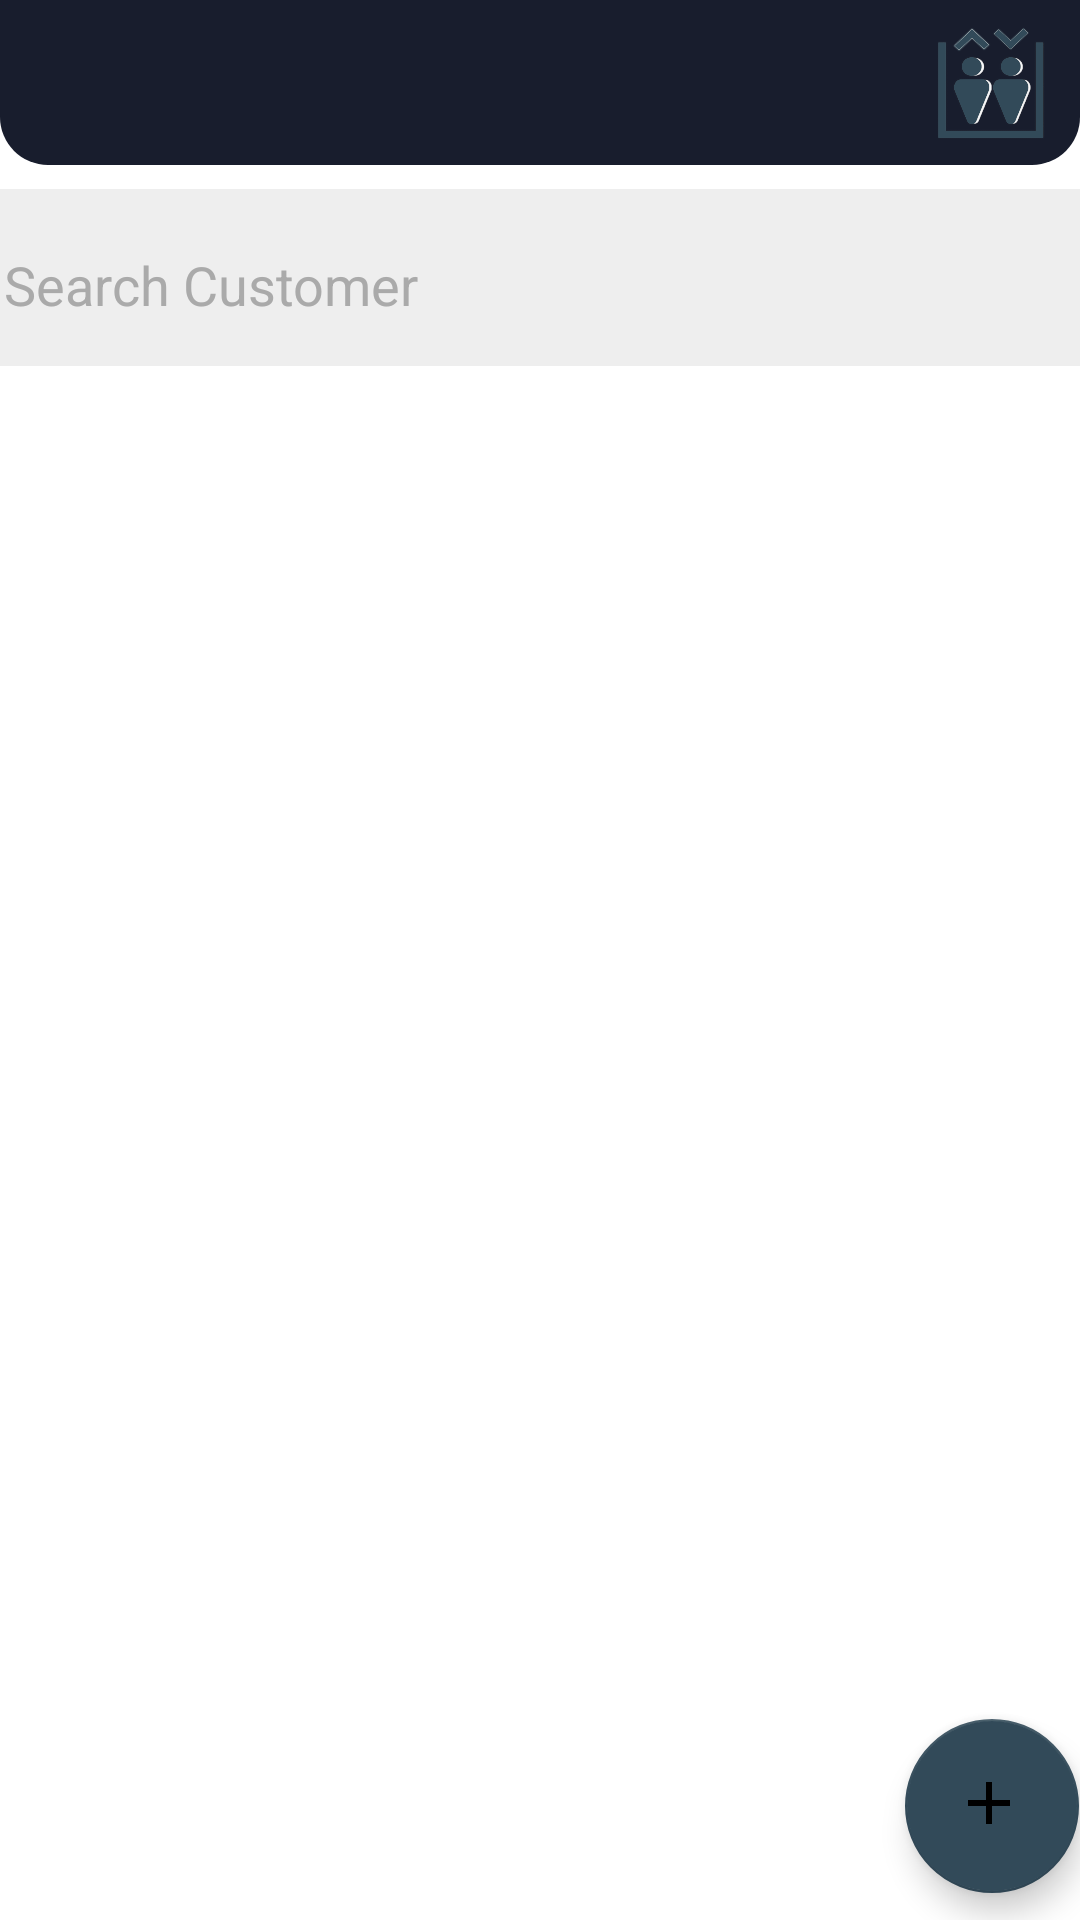

Screen size 1080 x 1920. Icon name, then its box in pixels as rect(x1, y1, x2, y2):
Add: rect(905, 1719, 1079, 1893)
